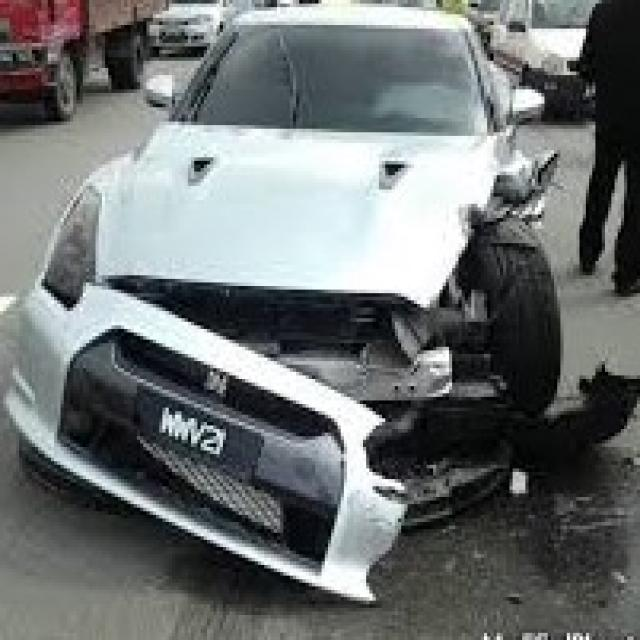severe: (90, 138, 609, 640)
